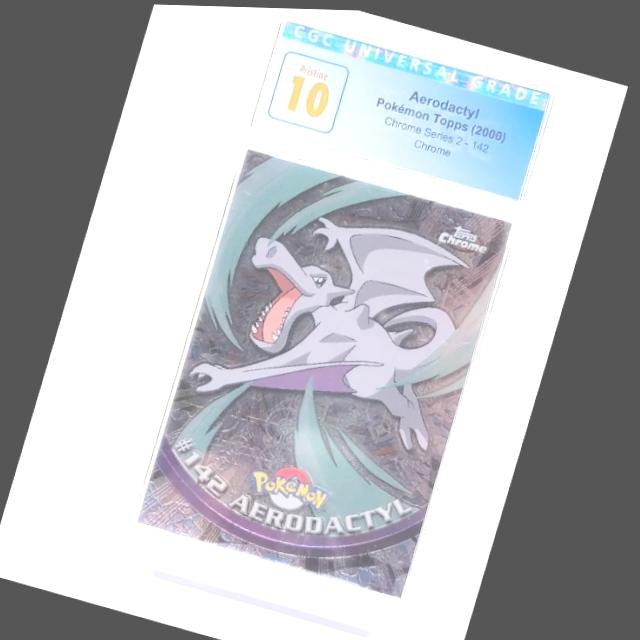card: (139, 145, 513, 596)
cgc_label_old: (252, 15, 551, 199)
cgc_slab: (100, 6, 590, 635)
